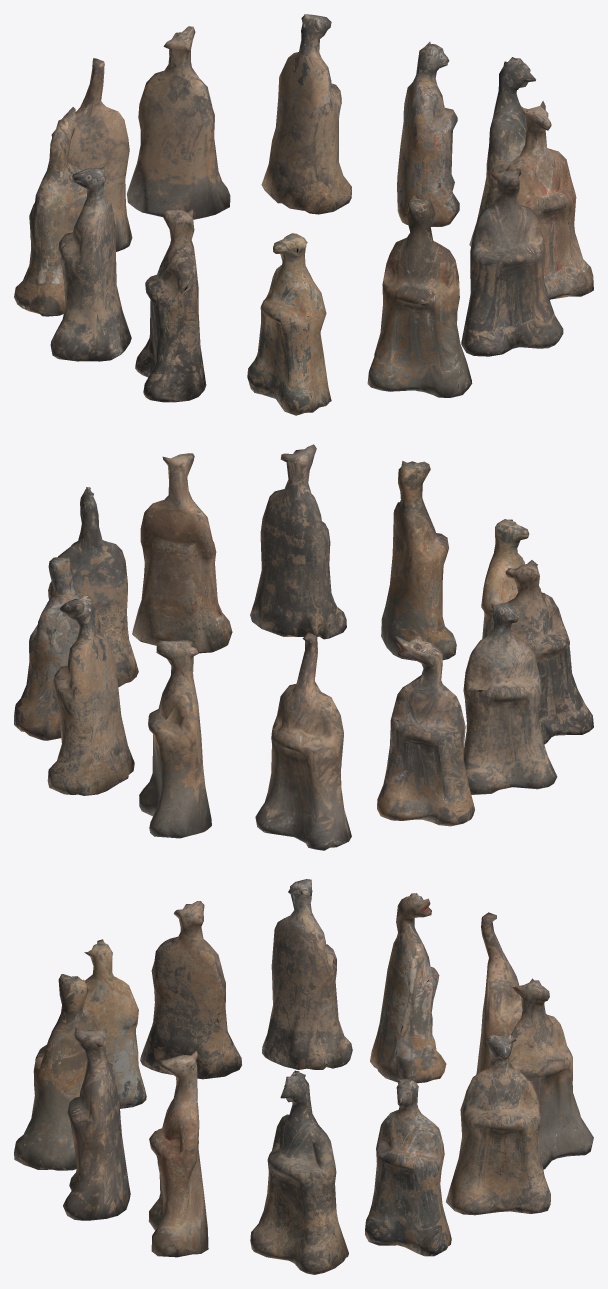
The model's file is L2_Antique10.fbx.
The picture shows the model from 3 angles, top to bottom: view 1: azimuth 30°, elevation 25°; view 2: azimuth 150°, elevation 25°; view 3: azimuth 270°, elevation 25°; orthographic projection.
Parts seen in each view (by area): view 1: L2_Anti4; view 2: L2_Anti4; view 3: L2_Anti4.
Boxes of the visible parts, box(x1,y1,x2,y2) form: L2_Anti4: box(14, 14, 593, 415); L2_Anti4: box(14, 444, 593, 850); L2_Anti4: box(14, 879, 593, 1274).
Size of the model in its own units: 0.3621 by 0.1309 by 0.3641.
2 materials, 2 textured.
